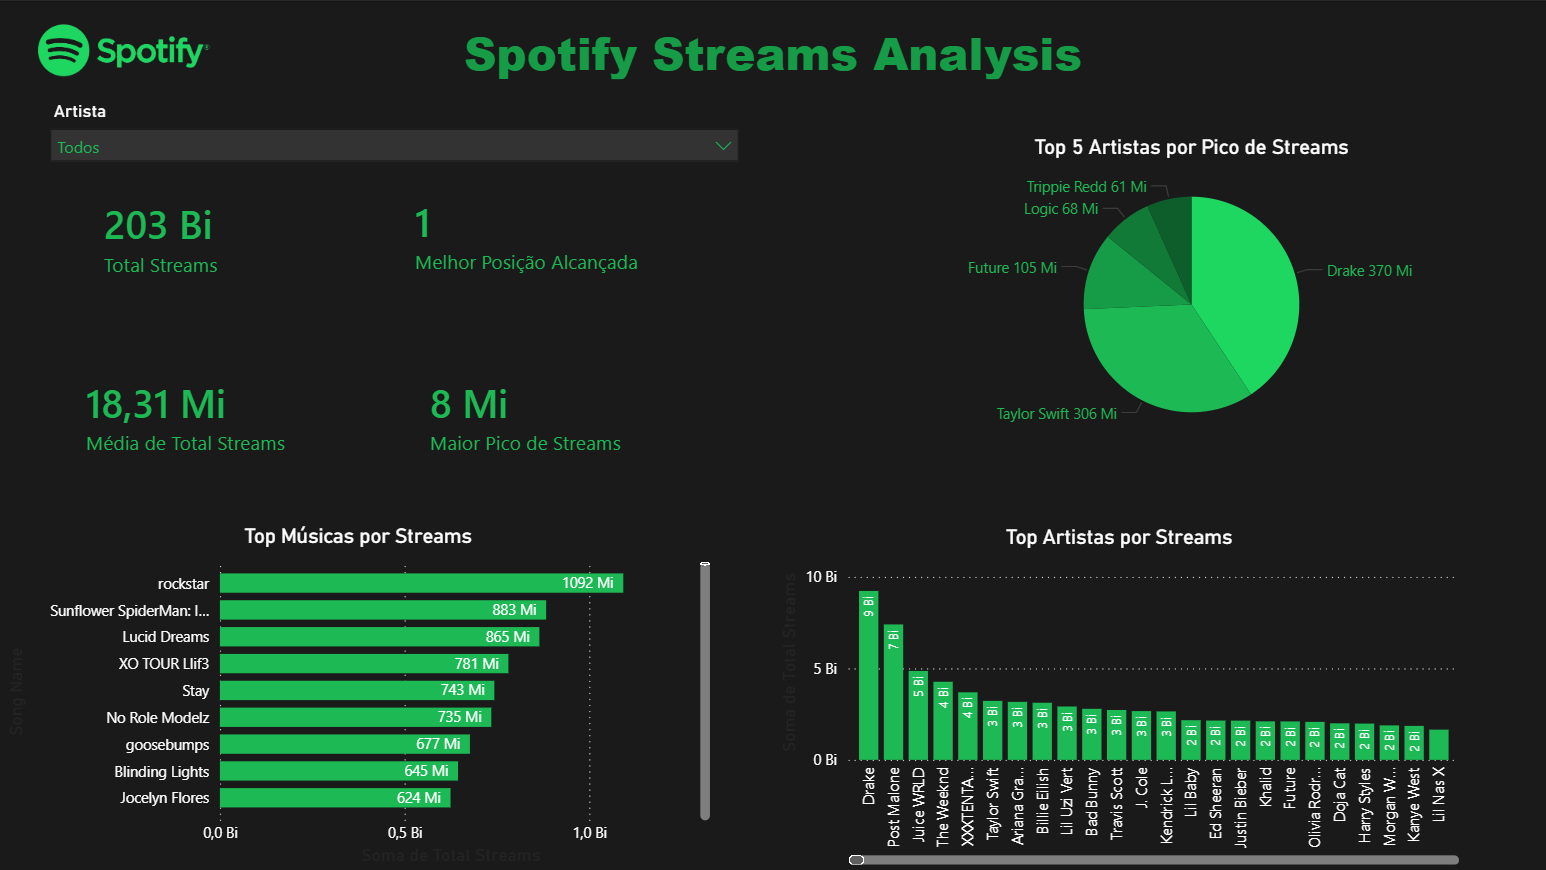

The page's visual inventory and layout, read from the dashboard file:
{"tool":"powerbi","page":{"name":"Página 1","canvas":[1280,720],"ordinal":0},"visuals":[{"type":"clusteredColumnChart","title":"Top Artistas por Streams","fields":{"Category":["Spotify_final_dataset.Artist Name"],"Y":["Sum(Spotify_final_dataset.Total Streams)"]},"box":[640,433.9,572.7,286.4],"z":0},{"type":"barChart","title":"Top Músicas por Streams","fields":{"Category":["Spotify_final_dataset.Song Name"],"Y":["Sum(Spotify_final_dataset.Total Streams)"]},"box":[0,433,592.6,287.2],"z":1000},{"type":"slicer","fields":{"Values":["Spotify_final_dataset.Artist Name"]},"box":[31.4,77.8,590.1,65.4],"z":2000},{"type":"cardVisual","fields":{"Data":["Sum(Spotify_final_dataset.Total Streams)"]},"box":[57.1,143.2,163,104.3],"z":3000},{"type":"cardVisual","fields":{"Data":["Min(Spotify_final_dataset.Peak Position)"]},"box":[314.5,143.2,244.1,99.3],"z":4000},{"type":"cardVisual","fields":{"Data":["Avg(Spotify_final_dataset.Total Streams)"]},"box":[42.2,293.8,230.9,98.5],"z":5000},{"type":"cardVisual","fields":{"Data":["Max(Spotify_final_dataset.Peak Streams)"]},"box":[326.9,293.8,220.1,98.5],"z":6000},{"type":"pieChart","title":"Top 5 Artistas por Pico de Streams","fields":{"Category":["Spotify_final_dataset.Artist Name"],"Y":["Sum(Spotify_final_dataset.Peak Streams)"]},"box":[759.7,110.9,452.7,261.5],"z":7000},{"type":"textbox","title":"Spotify Streams Analysis","box":[350.1,15.7,579.3,48.8],"z":8000},{"type":"image","box":[31.4,3.3,141.5,74.5],"z":10000}]}

Visuals, with their boxes in screenshot pixels (x1, y1, x2, y2), scaled from the page's 1280x720 canvas onto the 1546x870 screenshot:
"Top Artistas por Streams" clusteredColumnChart: (left=773, top=524, right=1465, bottom=869)
"Top Músicas por Streams" barChart: (left=0, top=523, right=716, bottom=869)
slicer - Spotify_final_dataset.Artist Name: (left=38, top=94, right=751, bottom=173)
cardVisual - Sum(Spotify_final_dataset.Total Streams): (left=69, top=173, right=266, bottom=299)
cardVisual - Min(Spotify_final_dataset.Peak Position): (left=380, top=173, right=675, bottom=293)
cardVisual - Avg(Spotify_final_dataset.Total Streams): (left=51, top=355, right=330, bottom=474)
cardVisual - Max(Spotify_final_dataset.Peak Streams): (left=395, top=355, right=661, bottom=474)
"Top 5 Artistas por Pico de Streams" pieChart: (left=918, top=134, right=1464, bottom=450)
"Spotify Streams Analysis" textbox: (left=423, top=19, right=1123, bottom=78)
image: (left=38, top=4, right=209, bottom=94)
